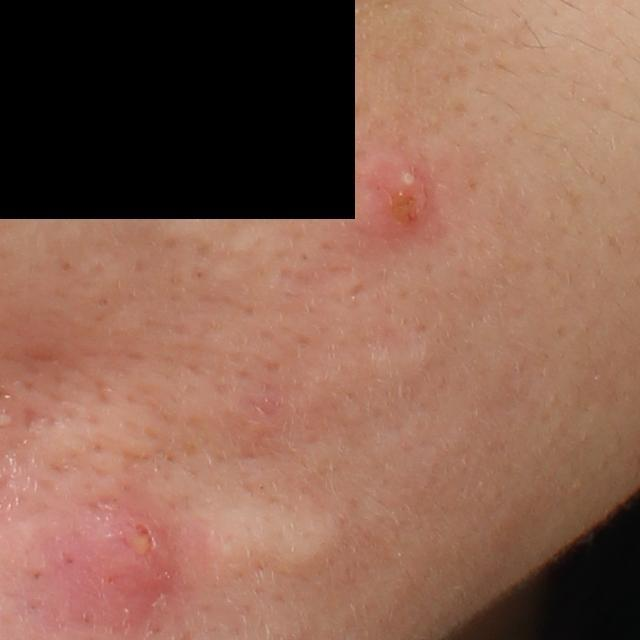hypertrophic_scar: (203, 491, 365, 585), (341, 334, 435, 390)
pustule: (64, 506, 198, 622), (374, 155, 436, 226)
